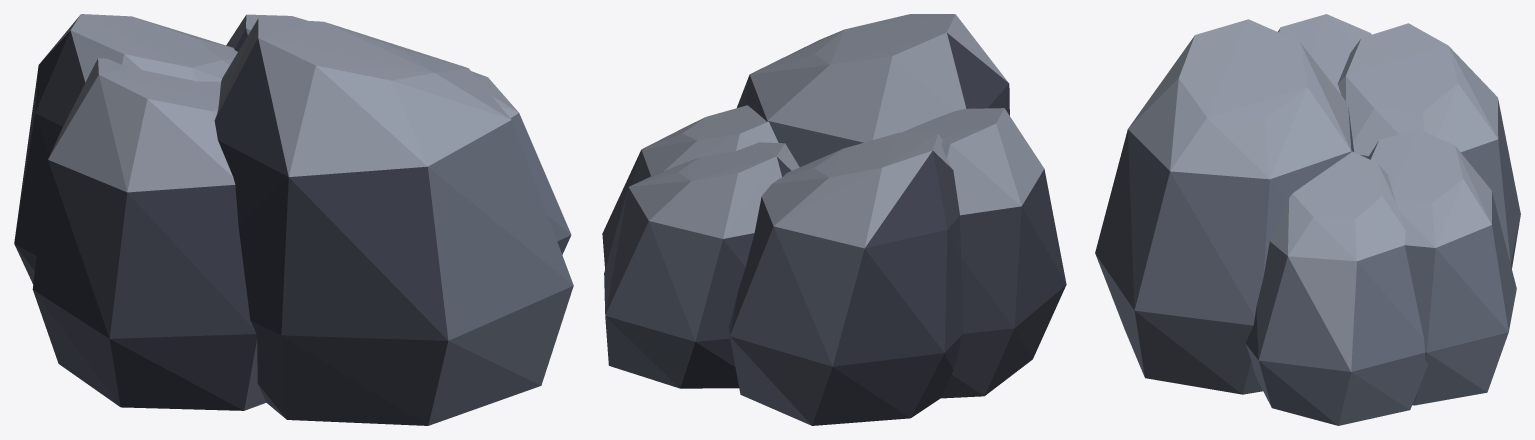
The model's file is TW_ROCK_CLUSTER_LARGE_A_LOD0.glb.
3 renders of one model, left to right at view 1: azimuth 30°, elevation 25°; view 2: azimuth 150°, elevation 25°; view 3: azimuth 270°, elevation 25°, orthographic. The views are drawn at different scales.
Parts seen in each view (by area): view 1: TW_ROCK_CLUSTER_LARGE_A_LOD0; view 2: TW_ROCK_CLUSTER_LARGE_A_LOD0; view 3: TW_ROCK_CLUSTER_LARGE_A_LOD0.
Part boxes in pixels (left/top/right/bottom): TW_ROCK_CLUSTER_LARGE_A_LOD0: left=14, top=14, right=573, bottom=425; TW_ROCK_CLUSTER_LARGE_A_LOD0: left=602, top=14, right=1066, bottom=425; TW_ROCK_CLUSTER_LARGE_A_LOD0: left=1095, top=14, right=1520, bottom=425.
Size of the model in its own units: 1.61 by 1.08 by 1.51.
Materials: 1 (1 with a texture image).
